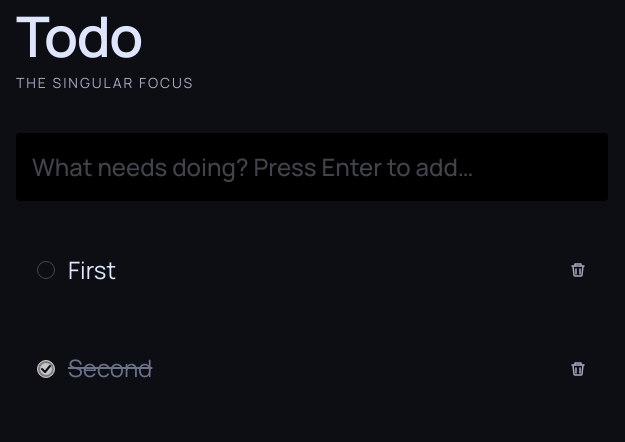
it: App integration › keeps full-area AppError hidden when create mutation fails
The width and height of the screenshot is (625, 442).
Type "Create me" into the field named "Add a task".
click(312, 167); type("Create me")  # box [32, 145, 592, 189]
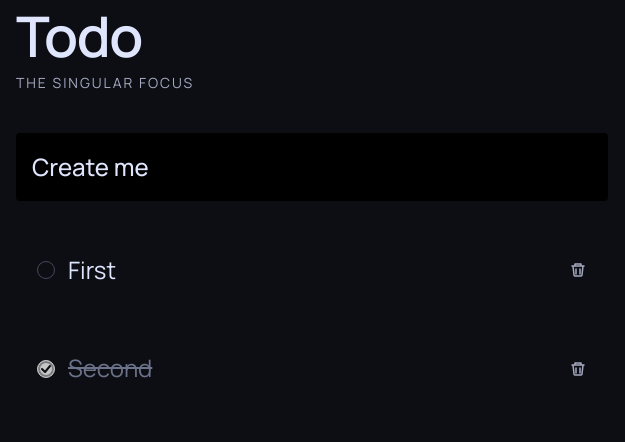
Press Enter in the field named "Add a task", box [32, 145, 592, 189]
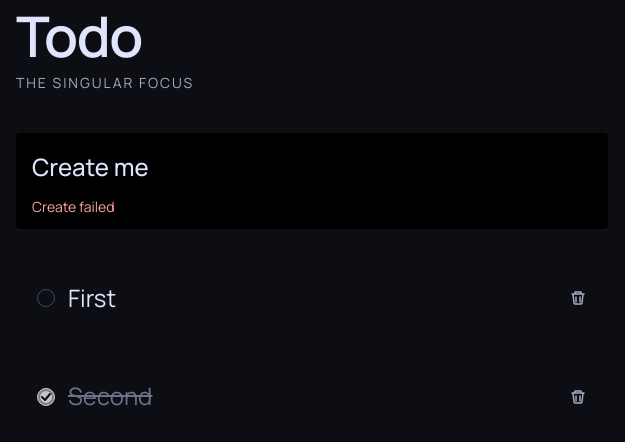
expect the element with test id "todo-row" is shown: met, box [16, 269, 608, 327]
expect the message "Create failed" is shown: met, box [32, 197, 115, 216]
